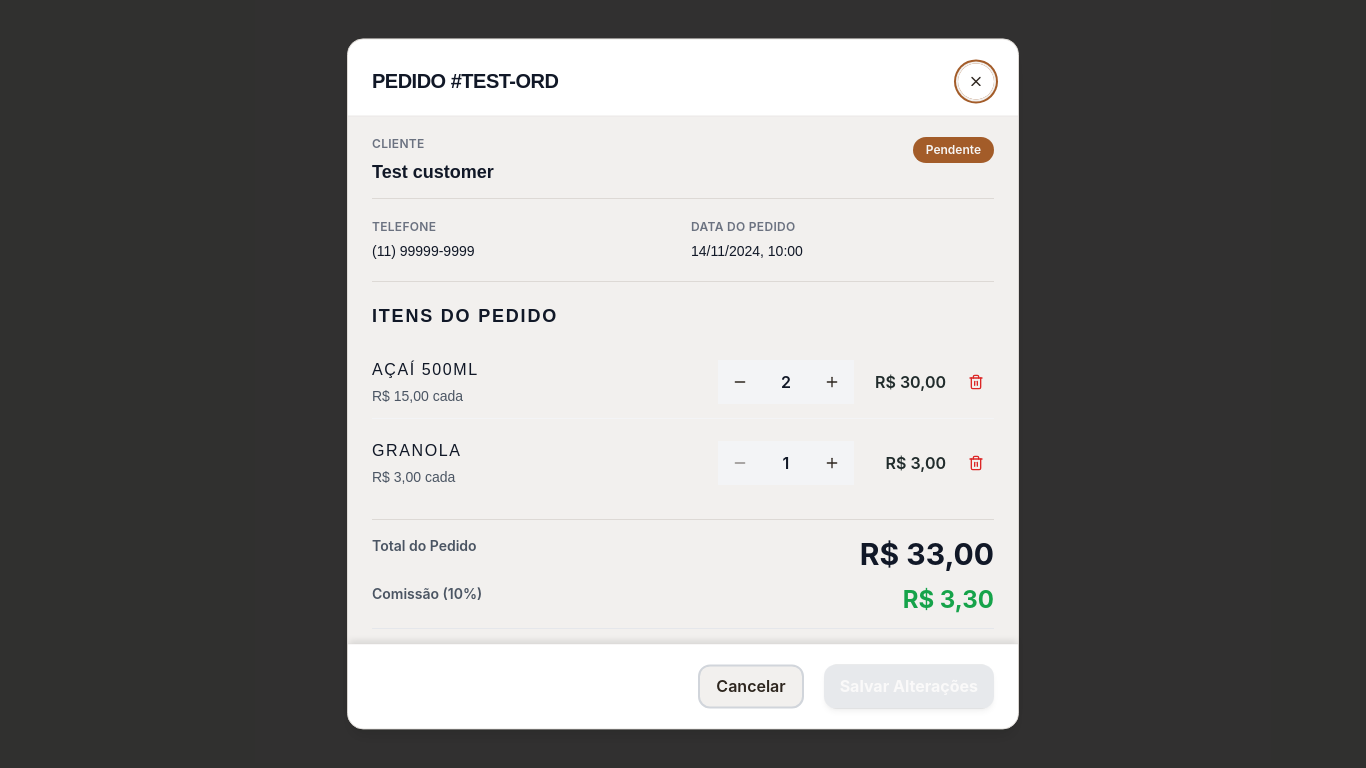
Test: OrderEditModal - Order Editing Functionality Tests › Requirement 7.5: Modifying Item Quantities › should decrease item quantity when minus button is clicked
Expected: the heading "Açaí 500ml" is shown, [372,361,479,378]
Click the button named "Diminuir quantidade" in the row of "R$ 30,00" at [740, 382], box [722,364,758,400]
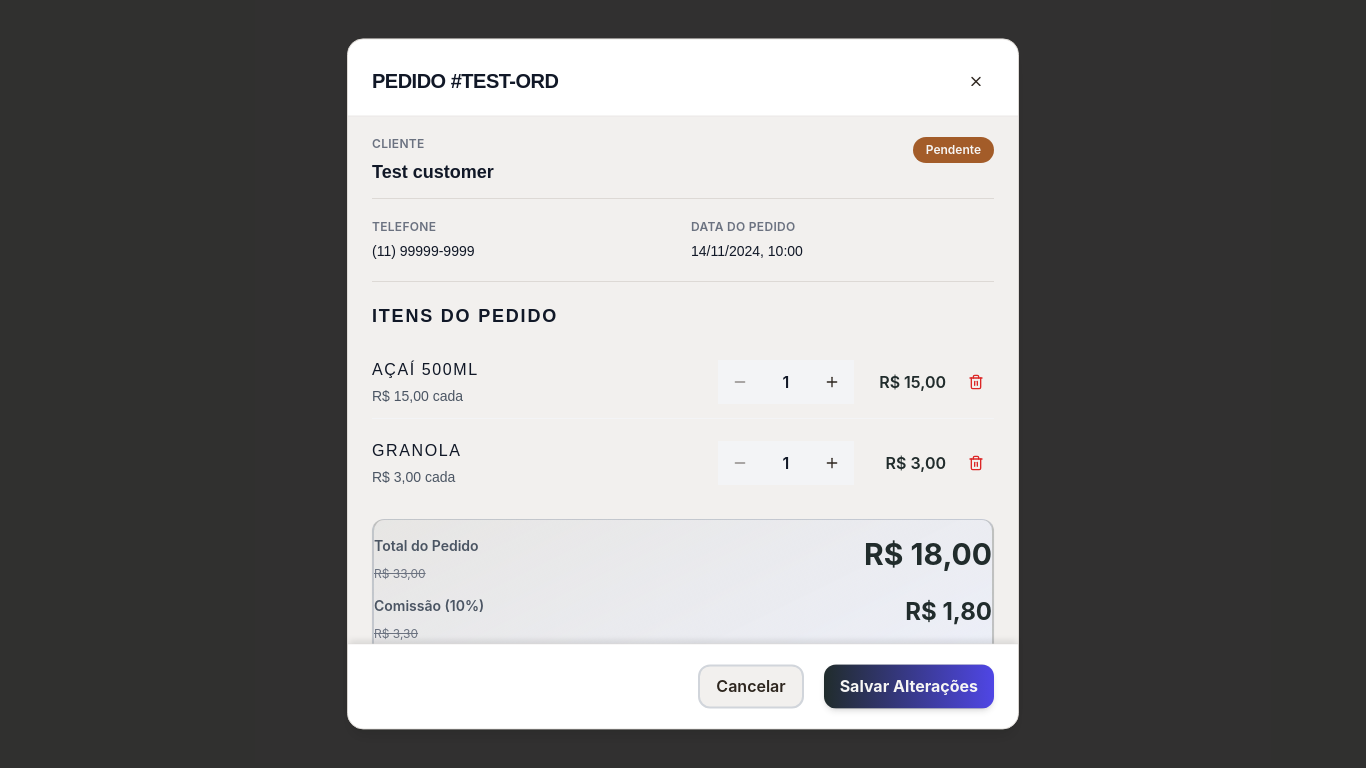
Expected: the text "R$ 18,00" is shown, [864,536,992,572]
